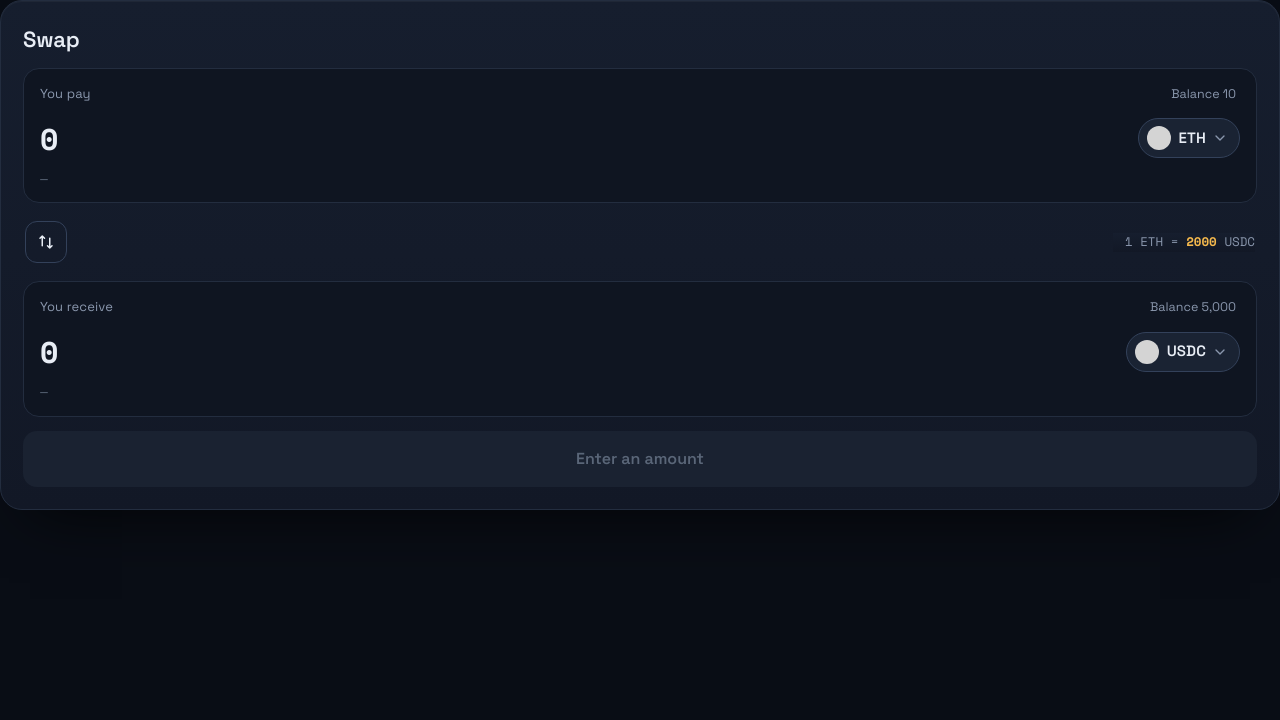
Test case: SwapCard › fills the full balance from the Max control
Expected: the field labelled "You pay" is shown, left=40, top=116, right=1126, bottom=161
What coordinates should you click on to do the following:
click the button "Balance 10"
I would click on:
 (1204, 94)
Its box is left=1167, top=83, right=1240, bottom=106.
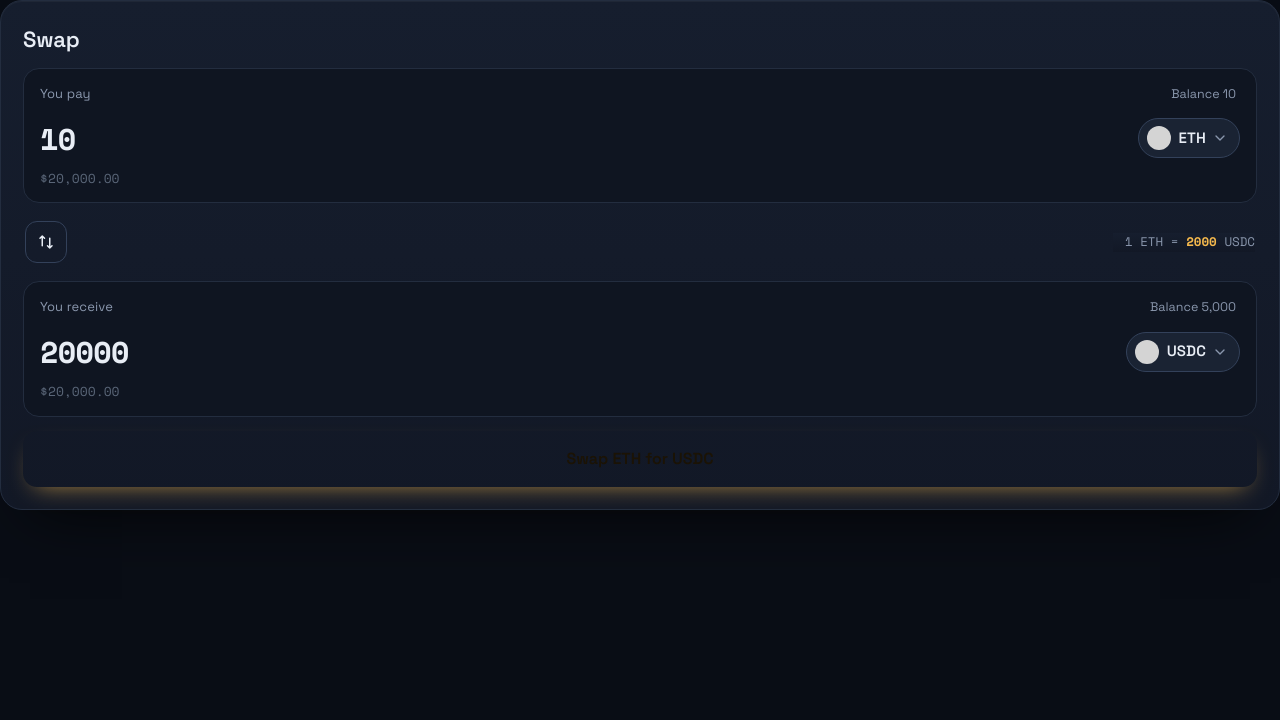
Now the field labelled "You pay" holds "10", box left=40, top=116, right=1126, bottom=161
